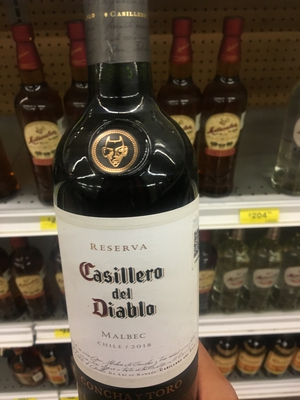casillero del diablo malbec: (51, 7, 214, 400)
